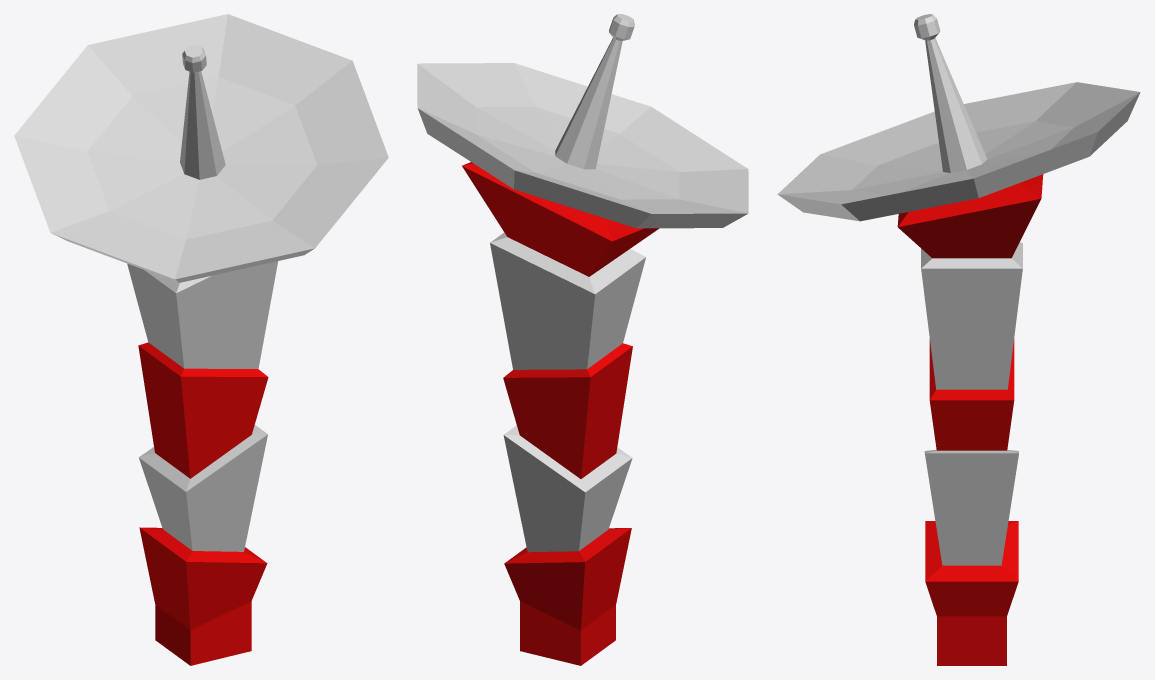
The model's file is tower.fbx.
3 views of the same model, side by side, from view 1: azimuth 30°, elevation 25°; view 2: azimuth 150°, elevation 25°; view 3: azimuth 270°, elevation 25° (orthographic).
Visible parts, largest first — view 1: Cube; view 2: Cube; view 3: Cube.
Boxes of the visible parts, x1,y1,x2,y2 form: Cube: (14,14,388,665); Cube: (417,14,748,665); Cube: (777,14,1140,665).
Bounding box in the file's own units: 16893 × 31704 × 16817.
